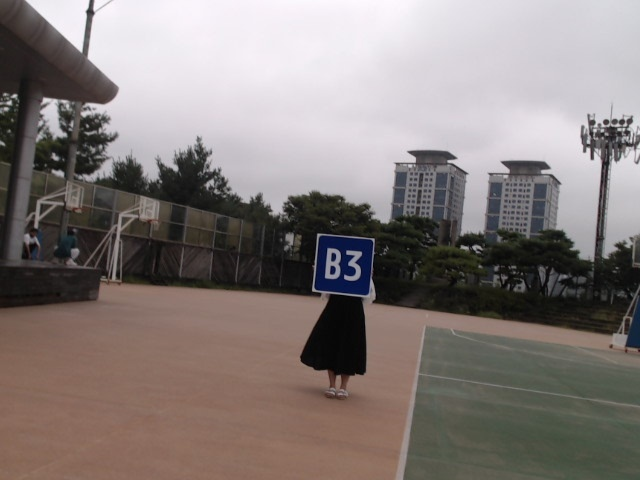delivery_b3: (313, 234, 374, 297)
